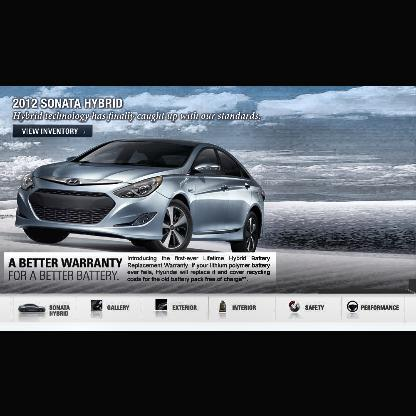Hyundai Sonata Hybrid Sedan 2012: (17, 139, 268, 257)
